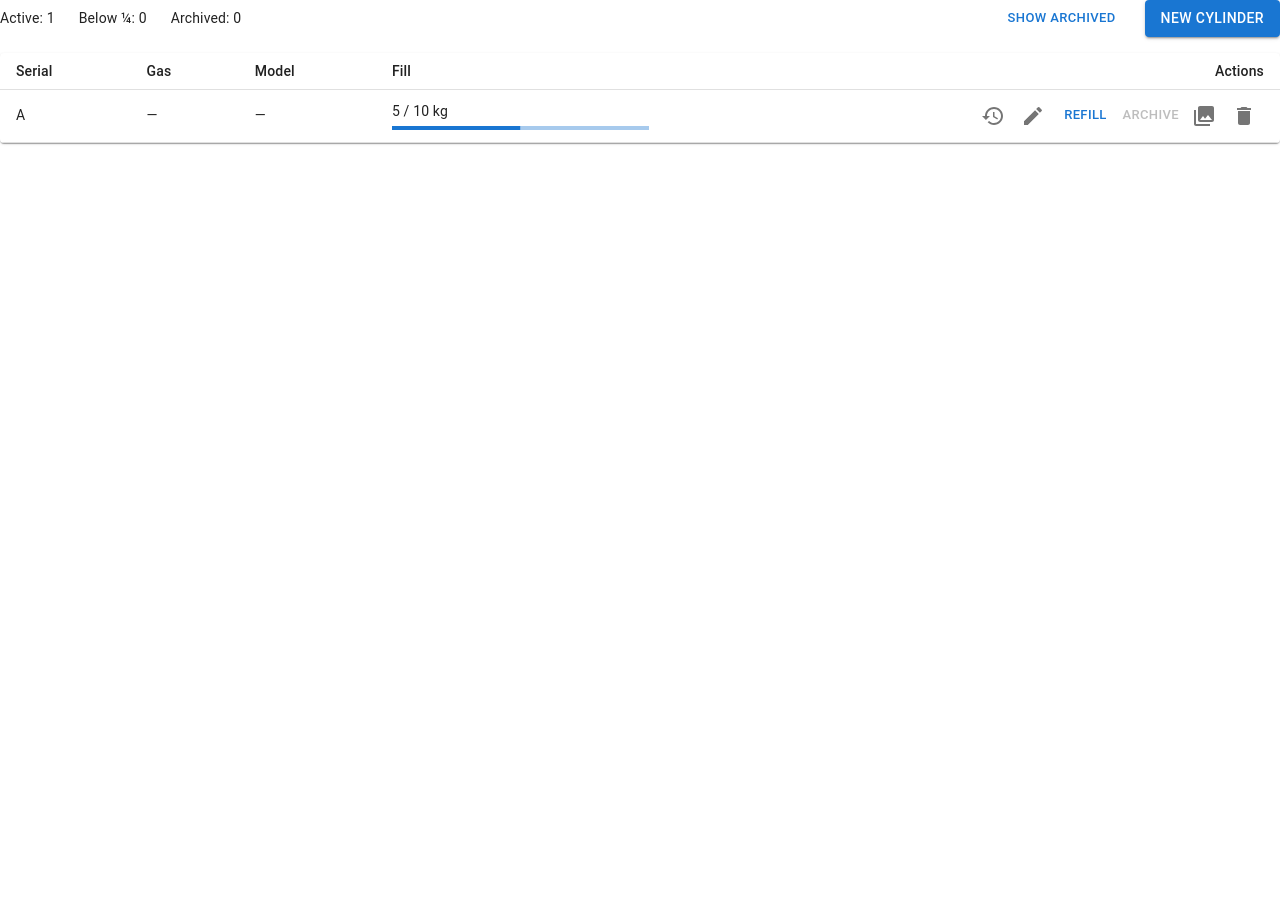
Test: CylindersManager › shows the balance read-only when editing
This screenshot has width=1280, height=900.
Check: the text "A" is shown, box [0,89,131,142]
Click the button named "Edit A" at coordinates (1034, 116), box [1014,96,1054,136]
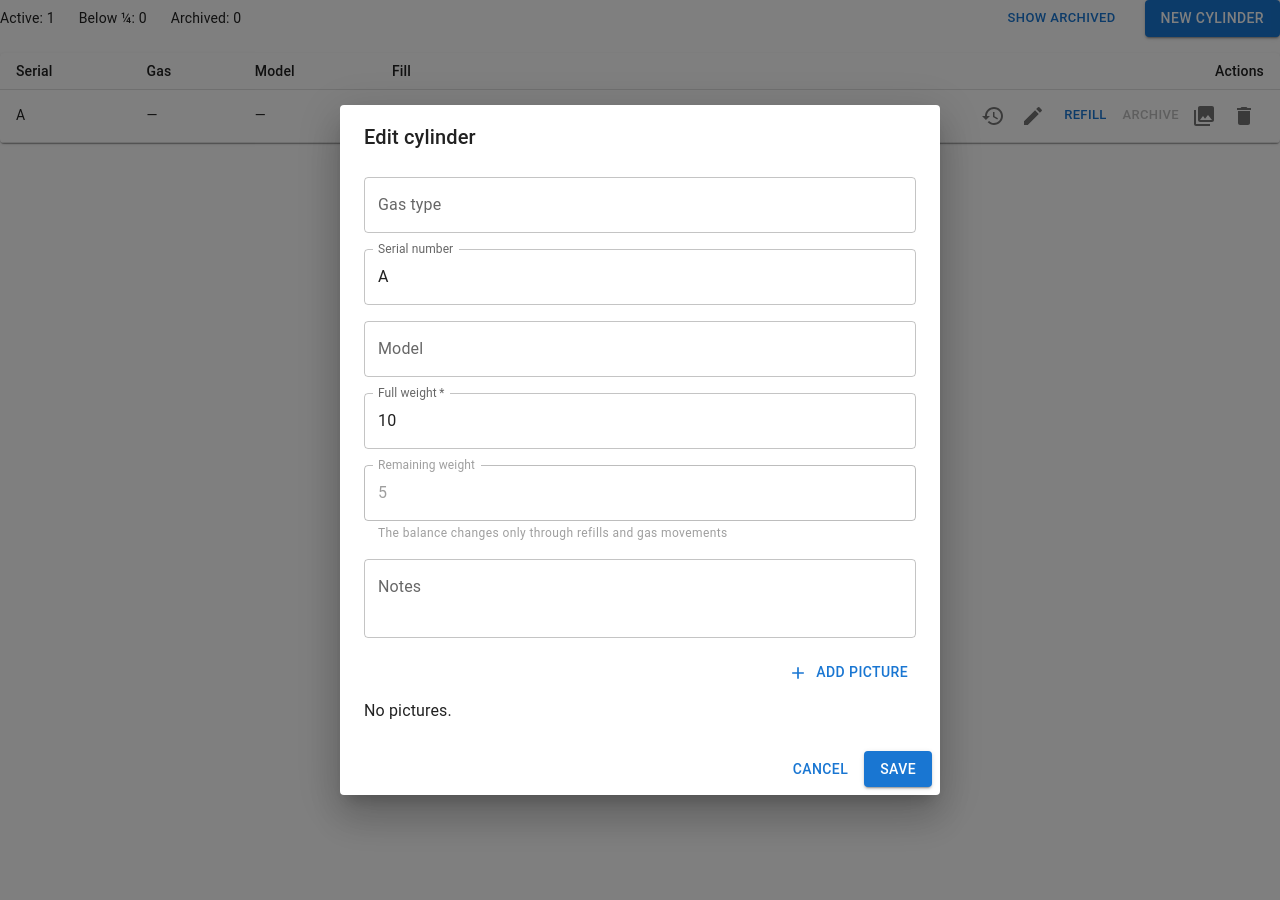
Check: the number field labelled "Remaining weight" is disabled, box [364,464,916,520]
Check: the number field labelled "Remaining weight" holds "5", box [364,464,916,520]
Replace the text in the field labelled "Serial number" with "B" at coordinates (640, 276), box [364,248,916,304]
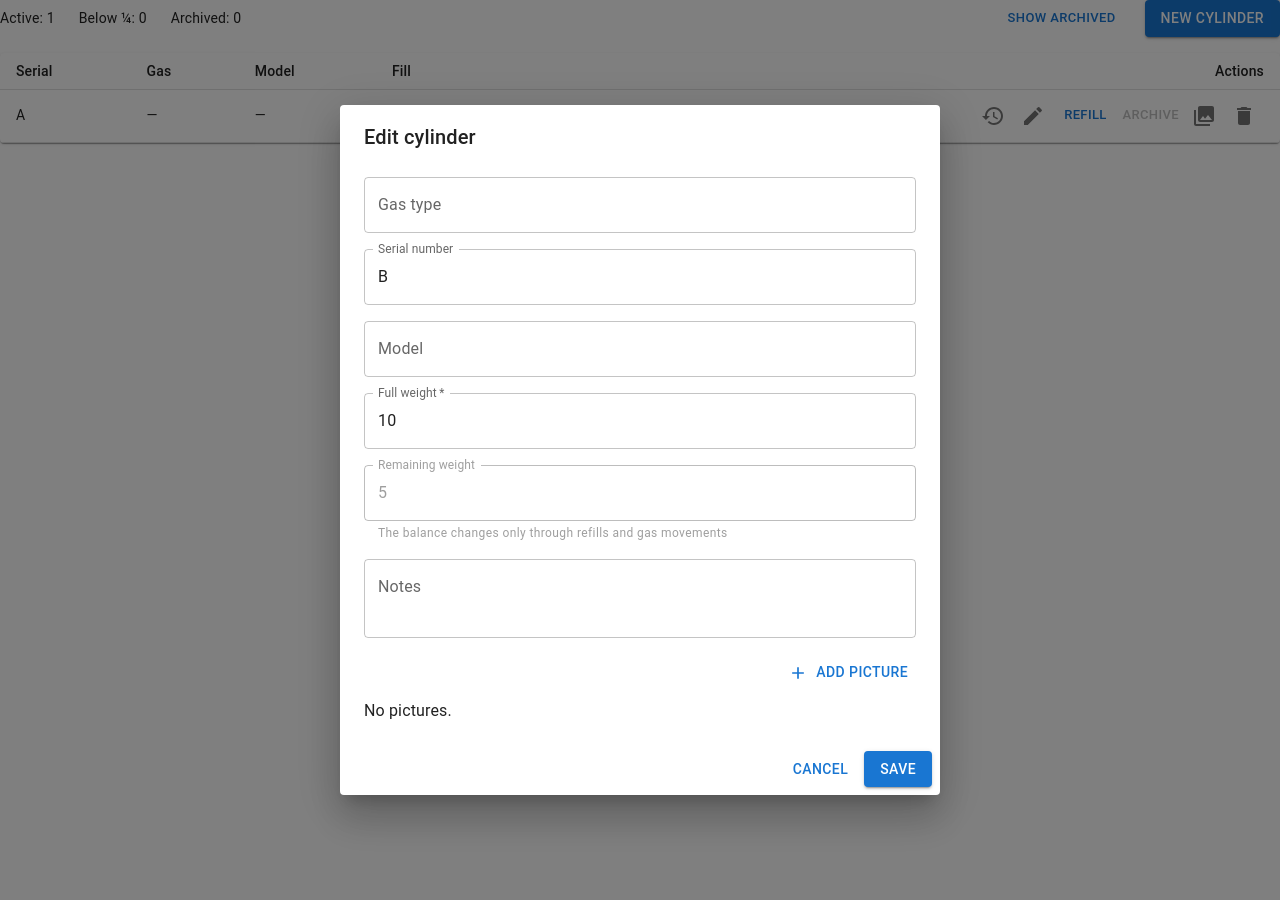
Click the button "Save" at coordinates (898, 769), box [864,751,932,788]
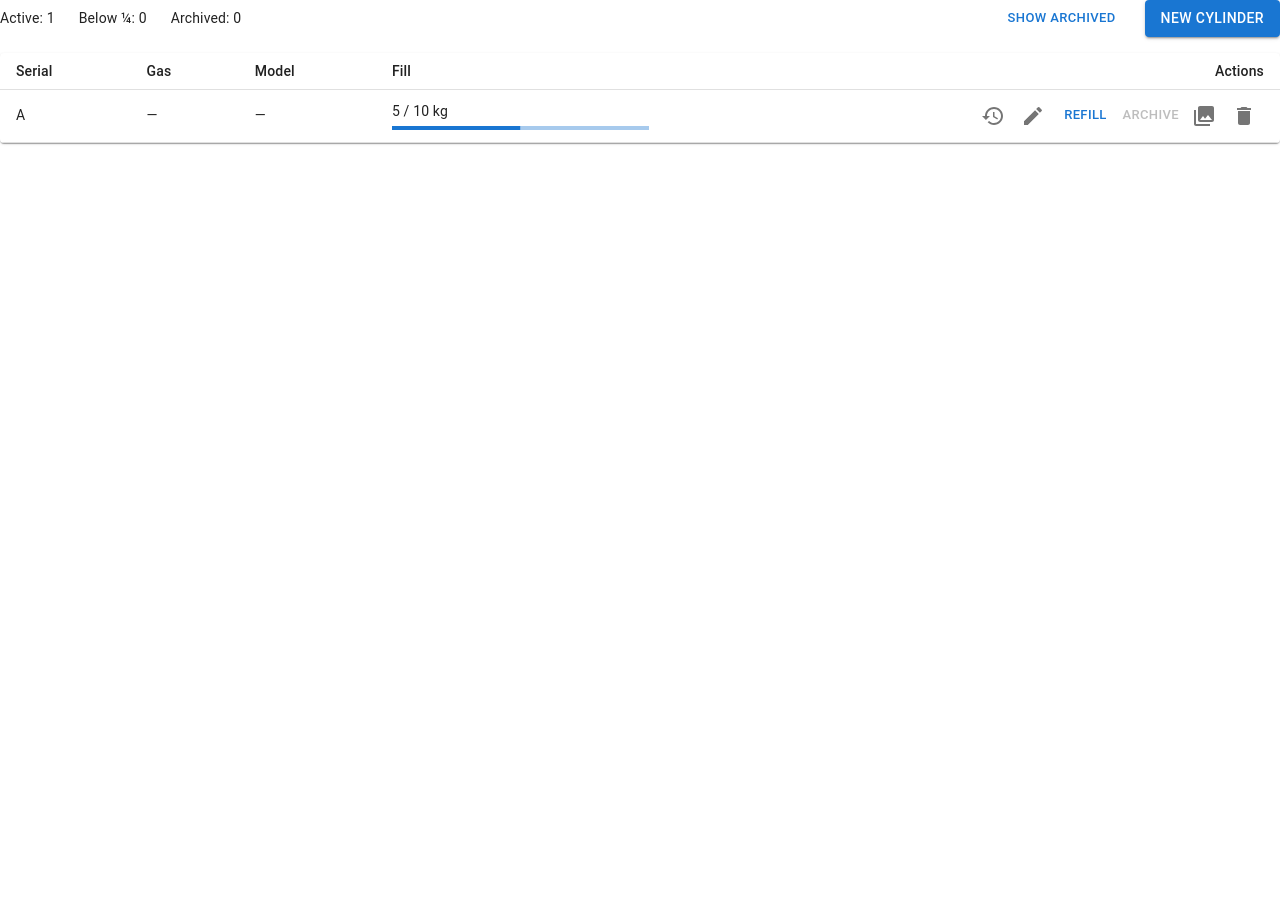
Check: the dialog is gone
